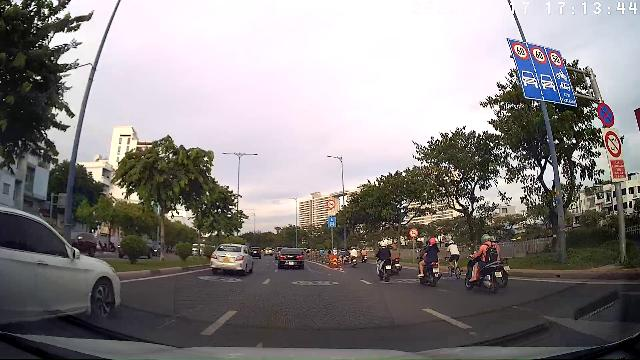103a-cam-oto: (409, 228, 418, 238)
127-toc-do-toi-da-50: (550, 50, 563, 68)
127-toc-do-toi-da-60: (512, 42, 529, 60), (531, 46, 547, 64)
130-cam-dung-va-do-xe: (597, 103, 615, 127)
